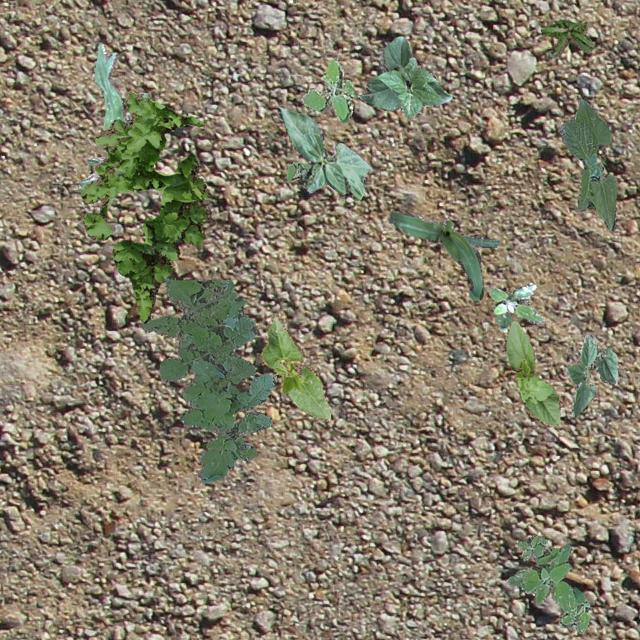crop: (78, 43, 148, 188), (388, 210, 498, 300), (276, 104, 370, 198), (356, 36, 452, 119), (558, 96, 616, 230), (260, 316, 330, 420), (502, 319, 562, 426), (564, 332, 618, 418)
weed: (80, 91, 210, 322), (140, 276, 274, 482), (506, 534, 588, 632), (301, 56, 354, 122), (488, 282, 544, 331), (540, 18, 594, 56), (286, 162, 310, 182)
